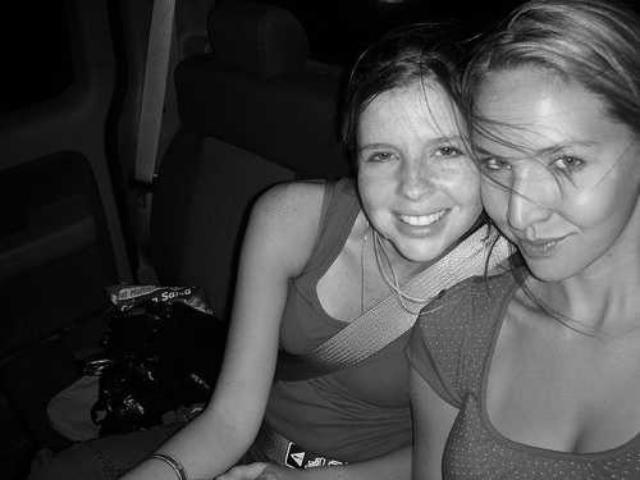SafeDriving: (545, 144, 594, 174), (424, 134, 470, 164), (361, 142, 405, 168)
Seatbelt: (296, 220, 520, 378)
